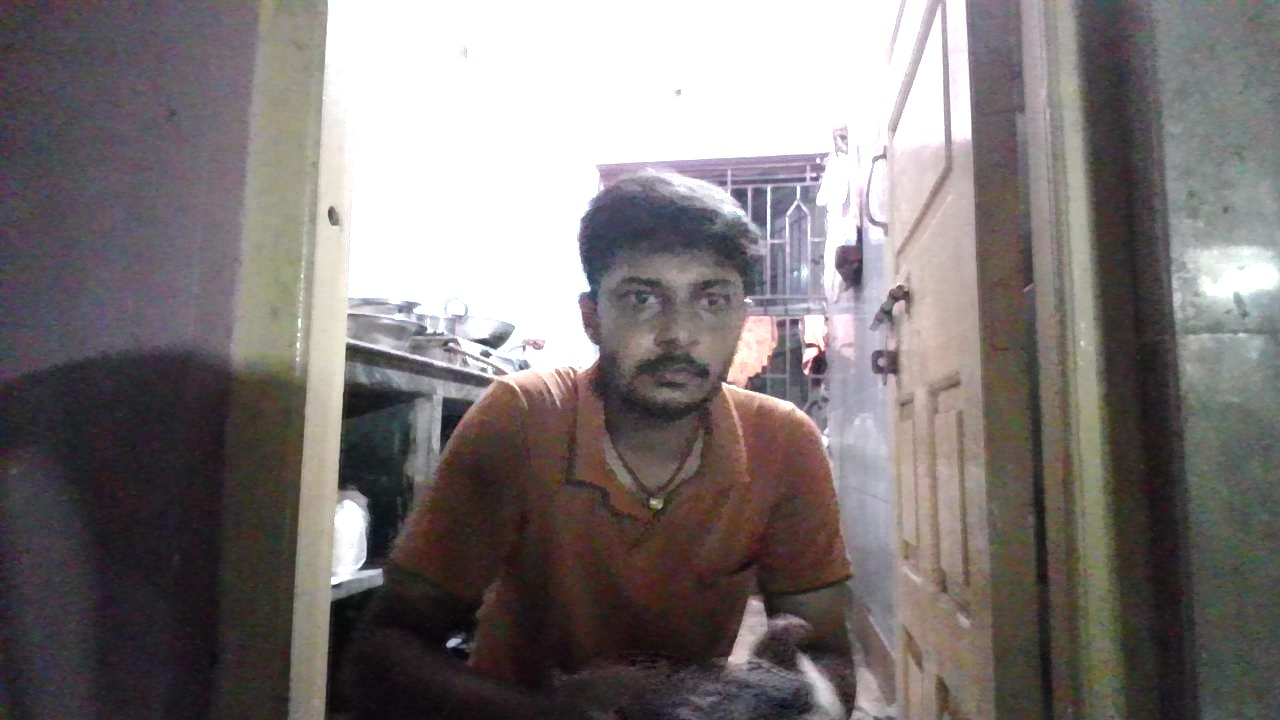red_box: (678, 396, 844, 564), (586, 448, 652, 524)
